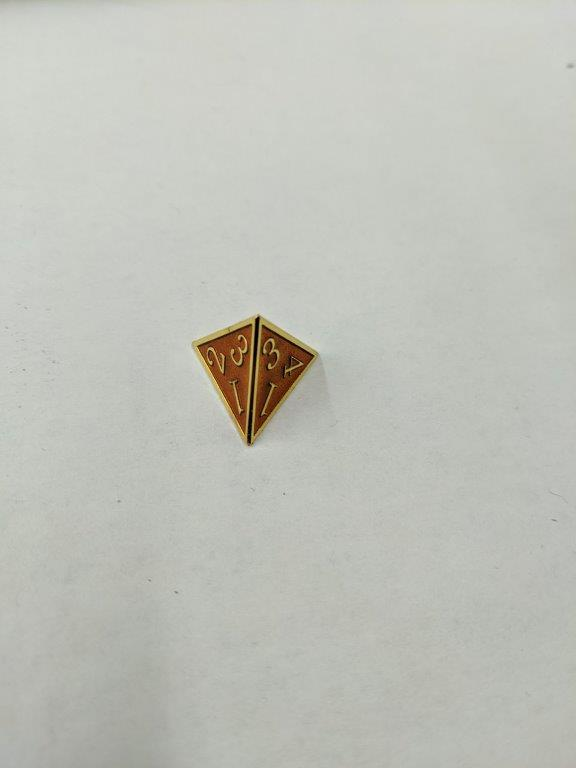d4-3: (190, 313, 324, 452)
